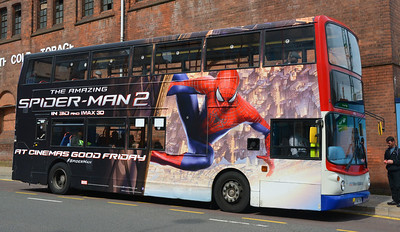bus: (12, 14, 371, 215)
